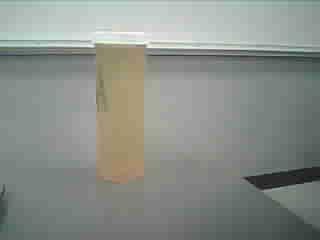Bottle A: (87, 20, 158, 190)
